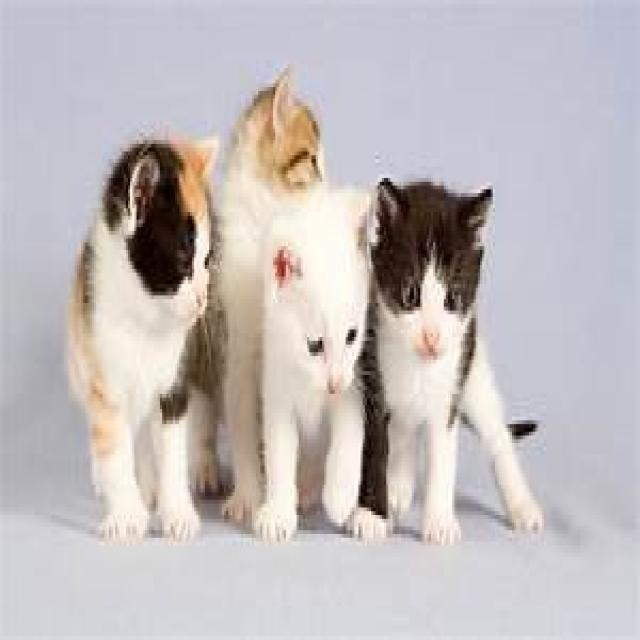cat: (357, 182, 545, 535), (69, 125, 222, 544), (220, 78, 326, 524), (261, 192, 371, 548)
